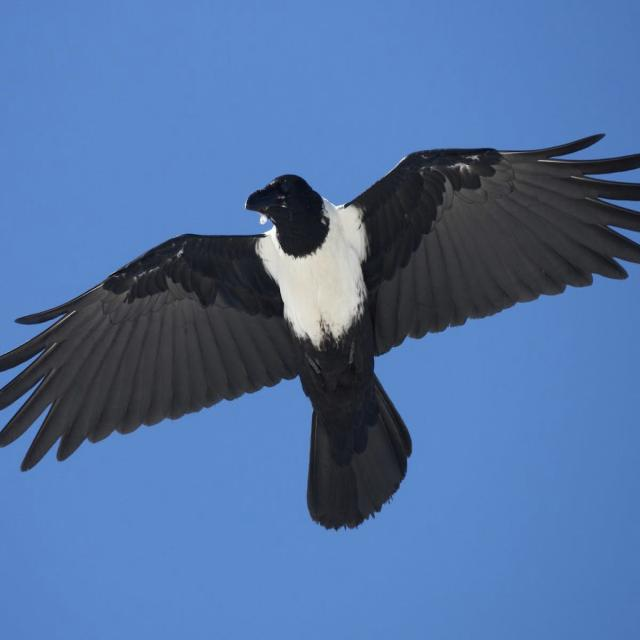crow: (1, 135, 640, 528)
